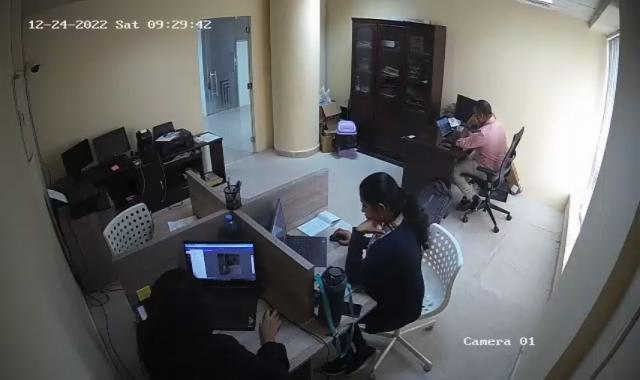no_hairnet: (152, 268, 205, 326), (359, 173, 402, 220), (472, 96, 494, 122)
